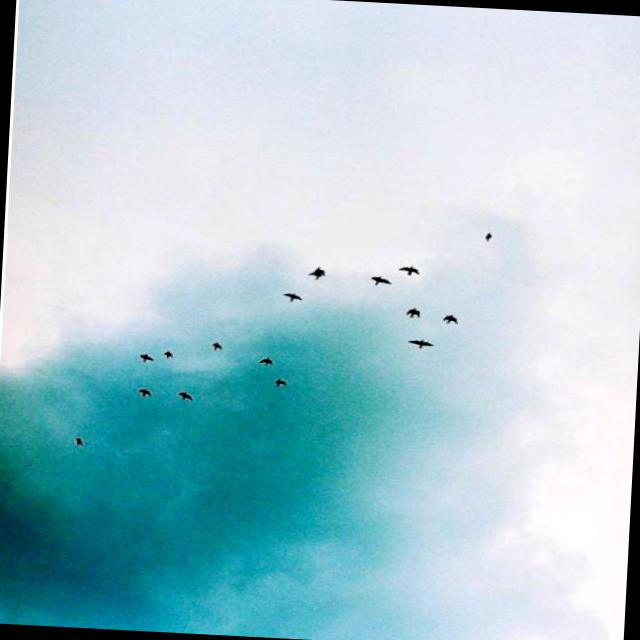bird: (70, 433, 96, 452), (403, 337, 434, 352), (306, 266, 334, 282), (280, 291, 310, 304), (402, 305, 424, 322), (441, 312, 462, 328), (368, 275, 392, 289), (208, 339, 230, 354), (270, 376, 292, 391), (134, 352, 155, 367), (132, 388, 154, 402), (399, 264, 422, 277), (175, 390, 197, 403), (254, 356, 276, 368), (480, 232, 498, 243), (162, 351, 180, 360)
